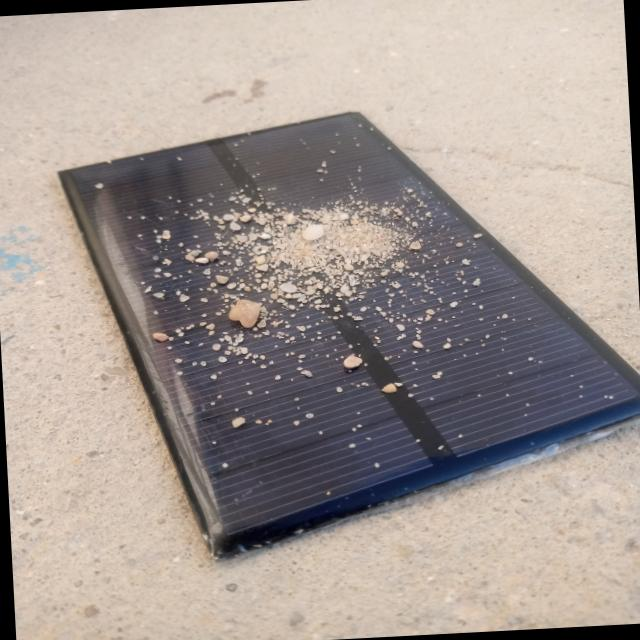faulty: (60, 110, 638, 539)
